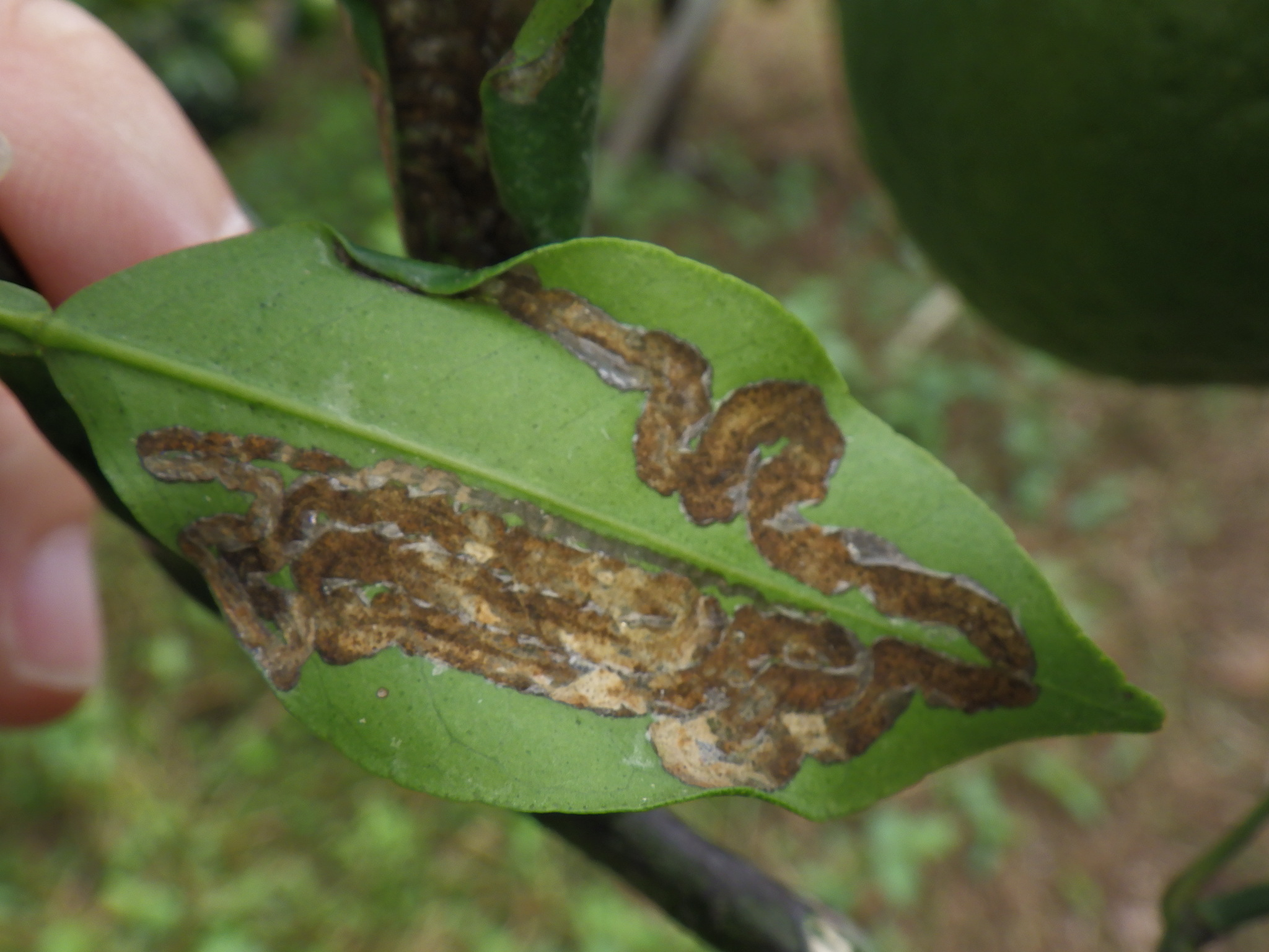Citrus_Leaf_Miner: (137, 275, 1037, 790)
